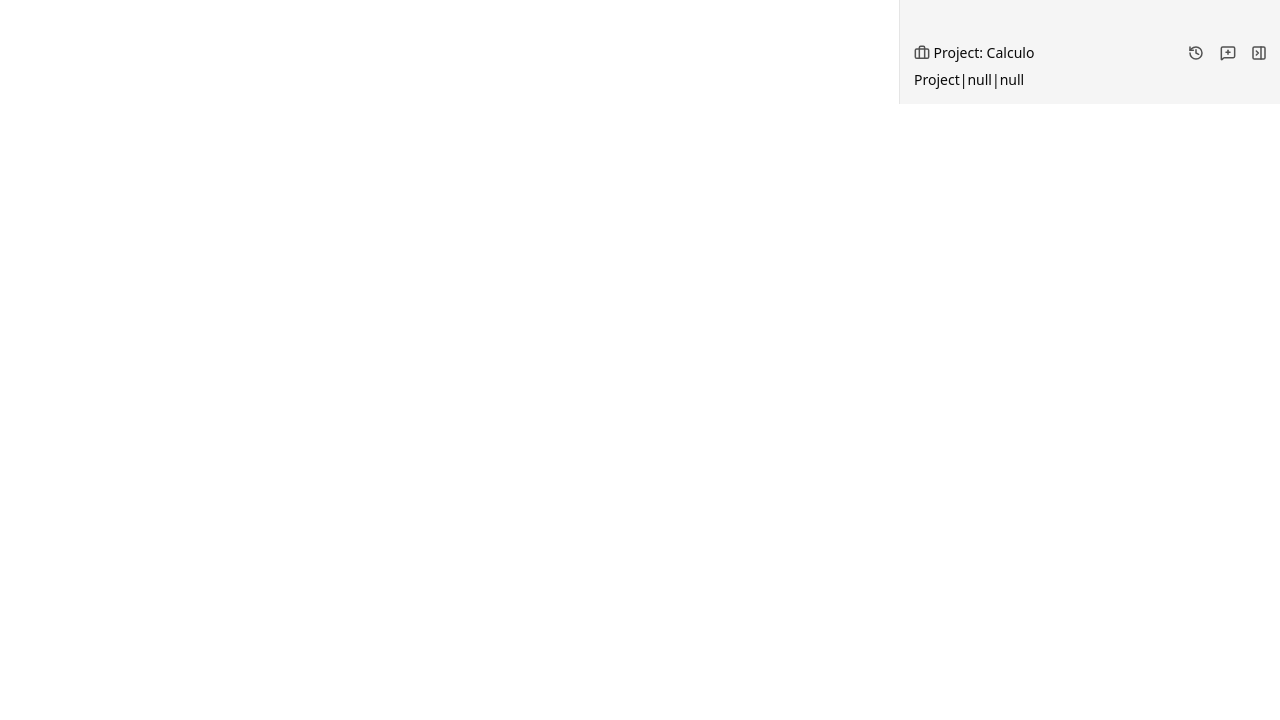
it: AiPanel History › lists the saved chats of the current owner, newest first, with a New chat action
The image size is (1280, 720).
Click the button with test id "BtnMeetingChatHistory" at (1196, 52), box [1182,38,1210,66]
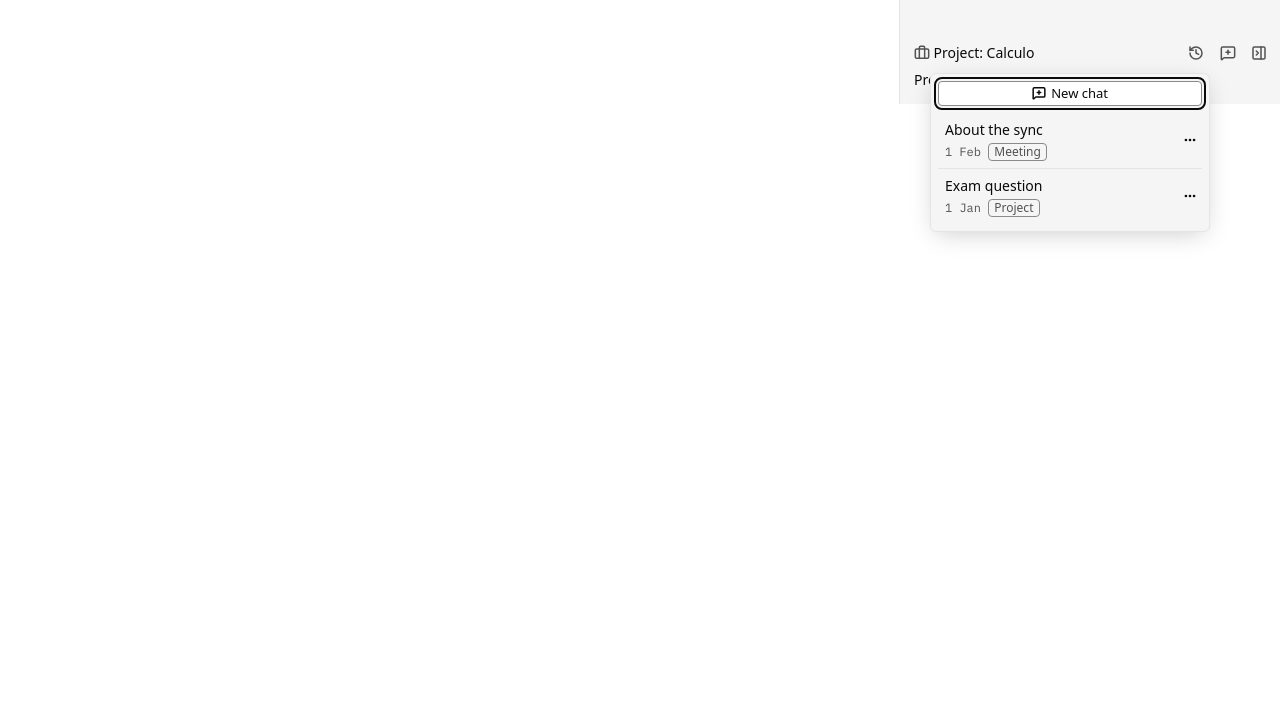
Expected: the button "New chat" is enabled, [938,81,1202,106]
